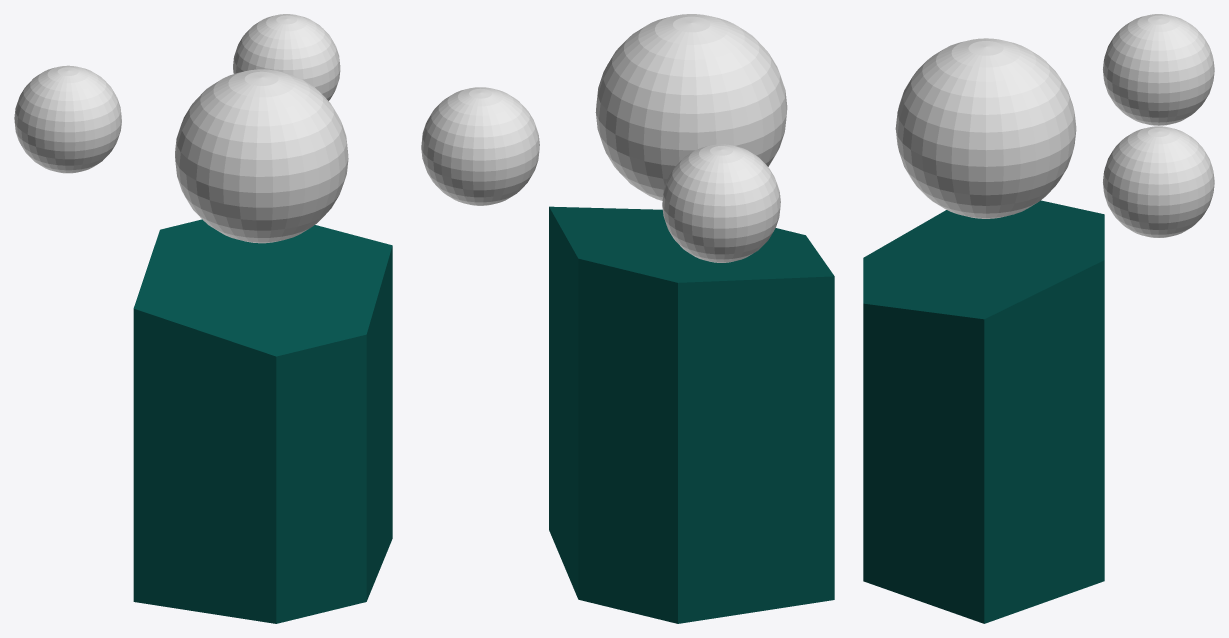
Rendered from SocleContenair.fbx.
The picture shows the model from 3 angles, left to right: view 1: azimuth 30°, elevation 25°; view 2: azimuth 150°, elevation 25°; view 3: azimuth 270°, elevation 25°; orthographic projection. The views are drawn at different scales.
Parts seen in each view (by area): view 1: Socle, Sphere1, Sphere2, Sphere3; view 2: Socle, Sphere1, Sphere2, Sphere3; view 3: Socle, Sphere1, Sphere3, Sphere2.
Boxes of the visible parts, x1,y1,x2,y2 form: Socle: [133, 219, 392, 623]; Sphere1: [175, 69, 348, 243]; Sphere2: [14, 65, 121, 173]; Sphere3: [233, 14, 340, 100]; Socle: [549, 206, 834, 623]; Sphere1: [595, 14, 787, 200]; Sphere2: [662, 144, 780, 262]; Sphere3: [421, 87, 539, 205]; Socle: [863, 200, 1104, 623]; Sphere1: [895, 38, 1076, 218]; Sphere3: [1103, 126, 1214, 237]; Sphere2: [1103, 14, 1214, 125].
Size of the model in its own units: 88.02 by 133 by 82.75.
